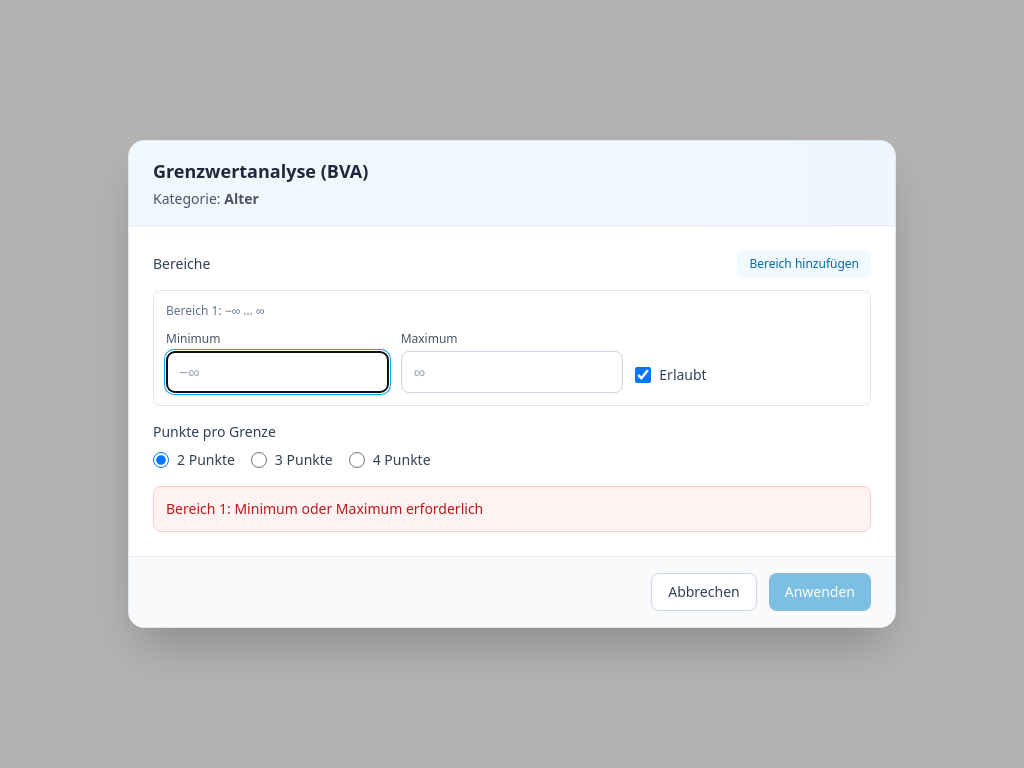
Test: BVADialog › Anwenden-Button ist enabled nach valider Eingabe
The image size is (1024, 768).
Type "10" into the field labelled "Minimum" at x=277, y=372, box [166,351,389,393]
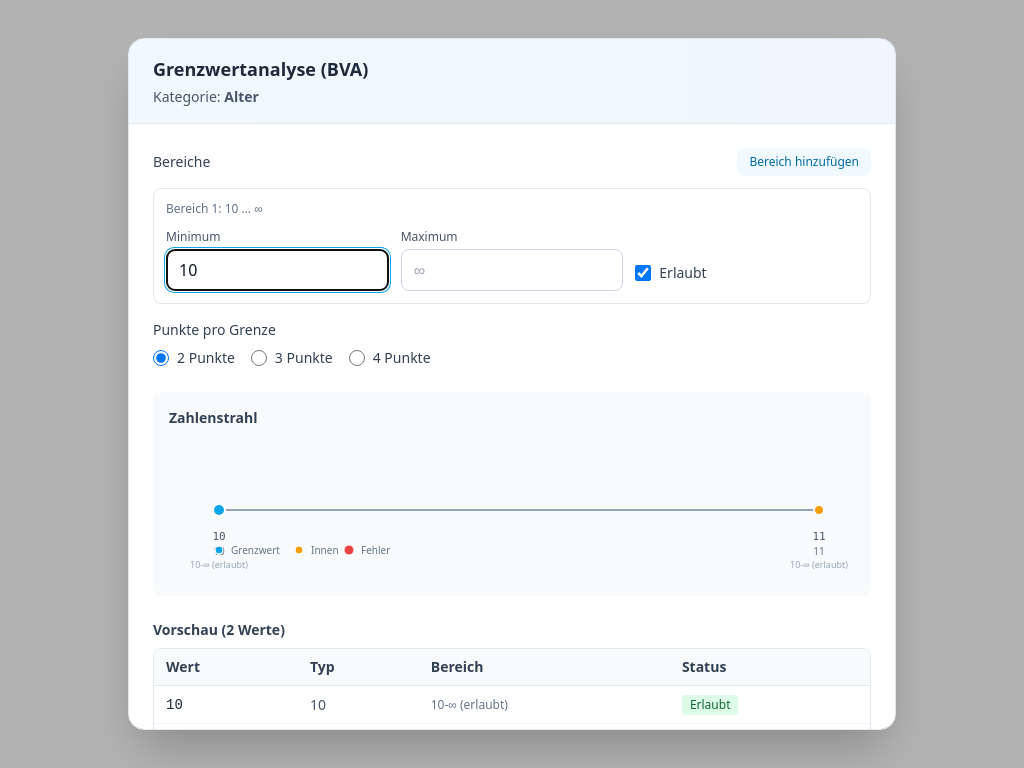
Type "20" into the field labelled "Maximum" at x=512, y=270, box [401,249,623,291]
(page scrolled)
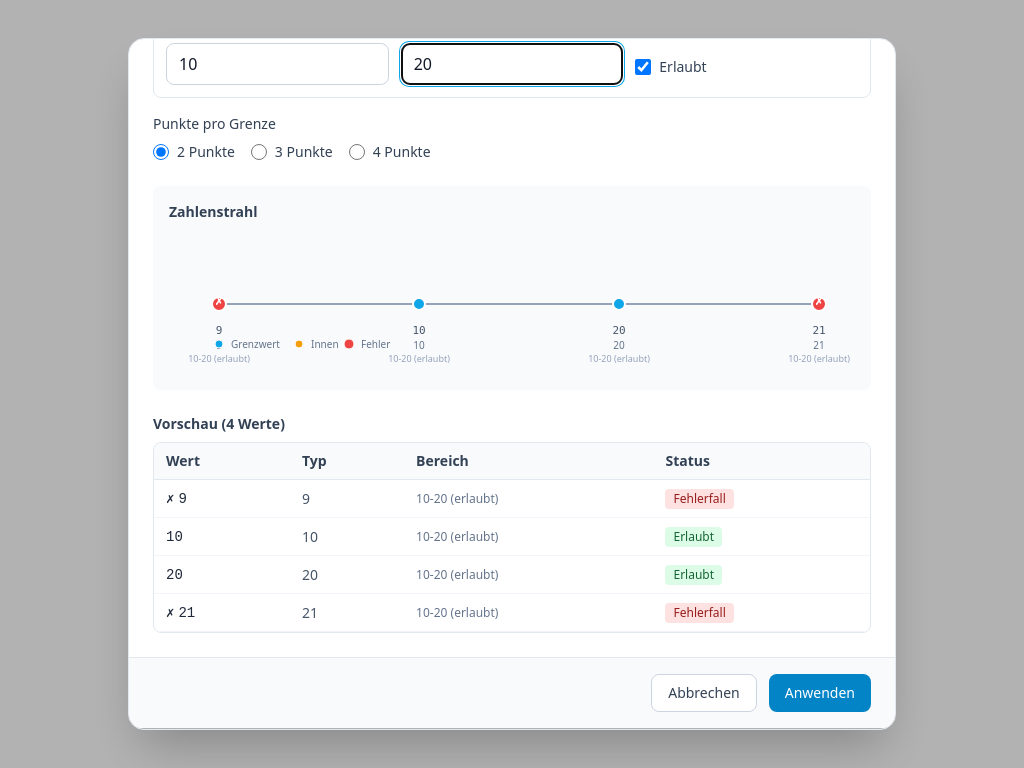
Expected: the button "Anwenden" is enabled, [769,674,871,712]
